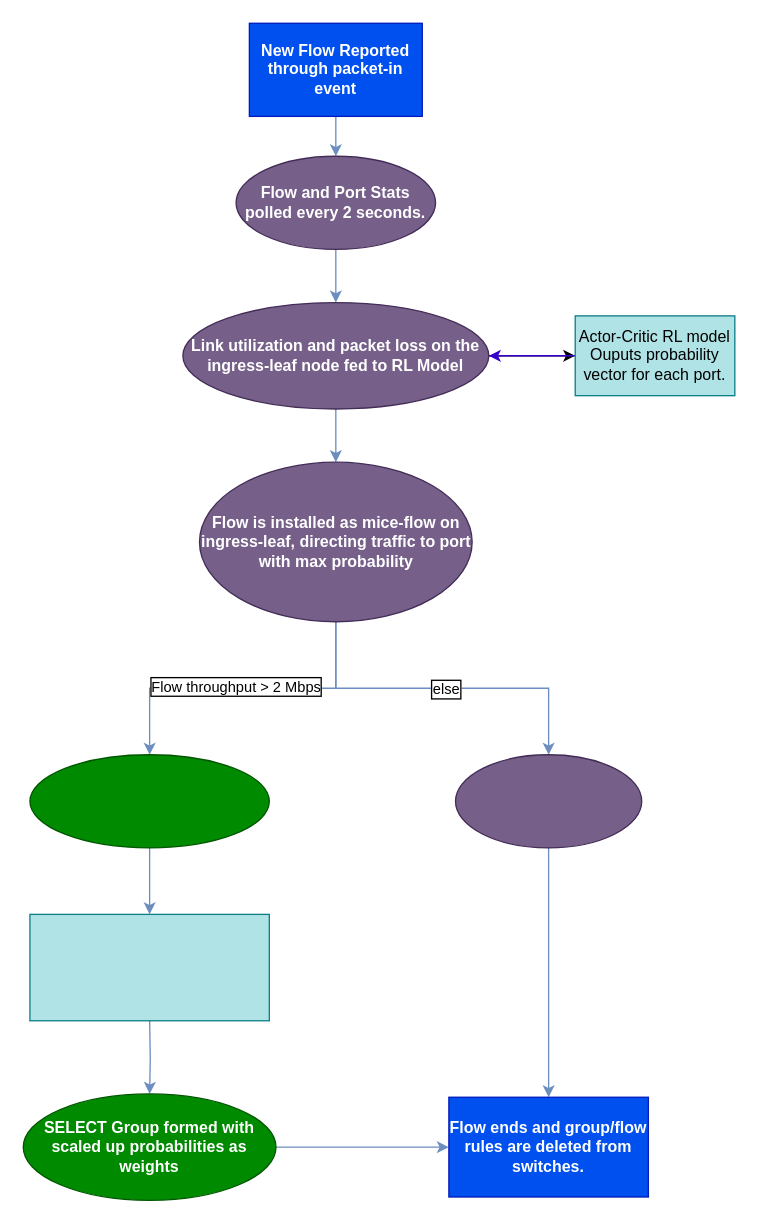
This 758x1224 diagram has some shape labels left out. Each missing label, with the centre of its shape:
"Flow continues as mice-flow" goes at [548,800].
"Flow is promoted to elephant flow" goes at [149,800].
"Port stats are fed to RL model again. Output probability vector for each port." goes at [149,967].
